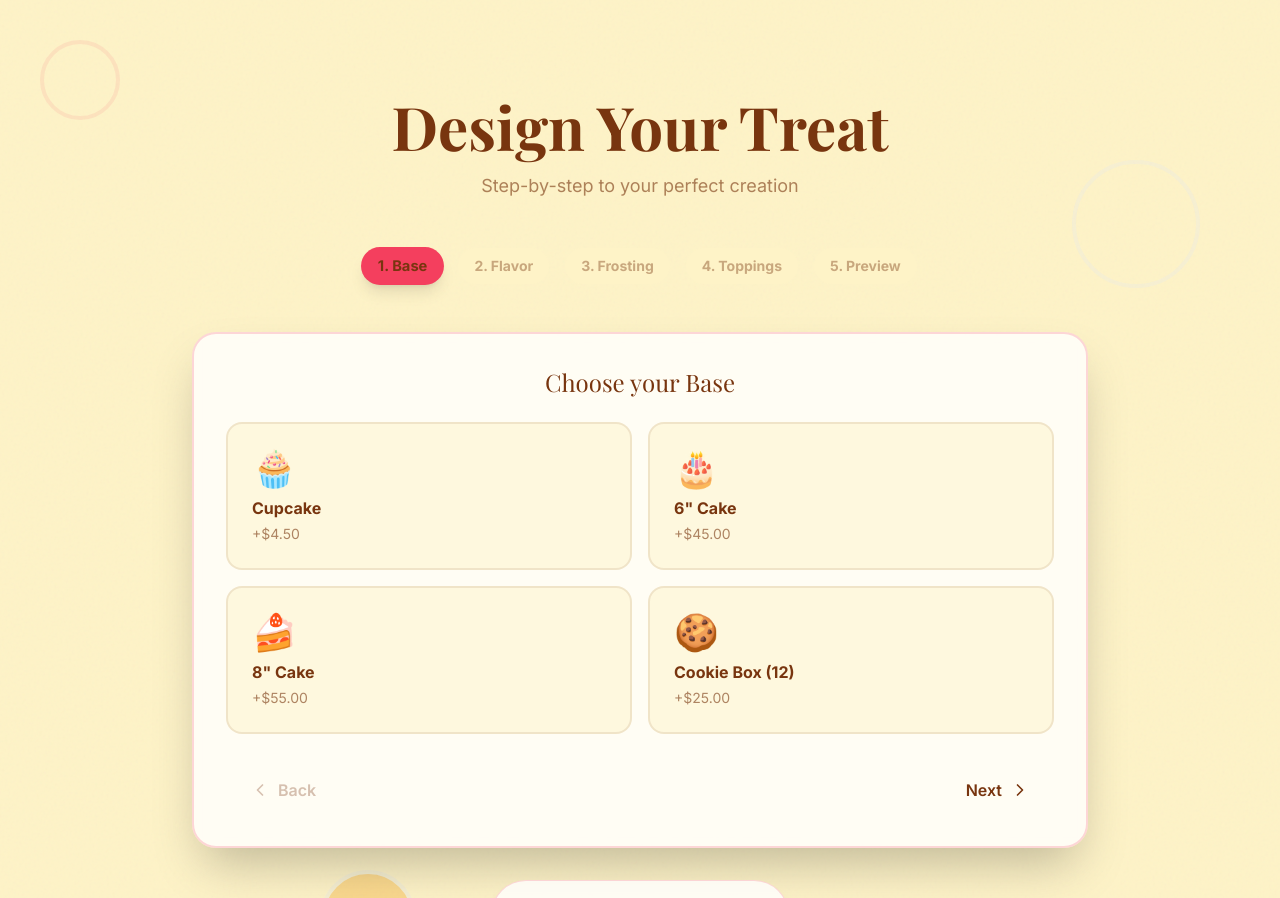
Test: Customizer › Navigation Buttons › enables back button after moving forward
Click the text "Cupcake" at (287, 508), box [252, 498, 321, 518]
Wait 400 ms
(page scrolled)
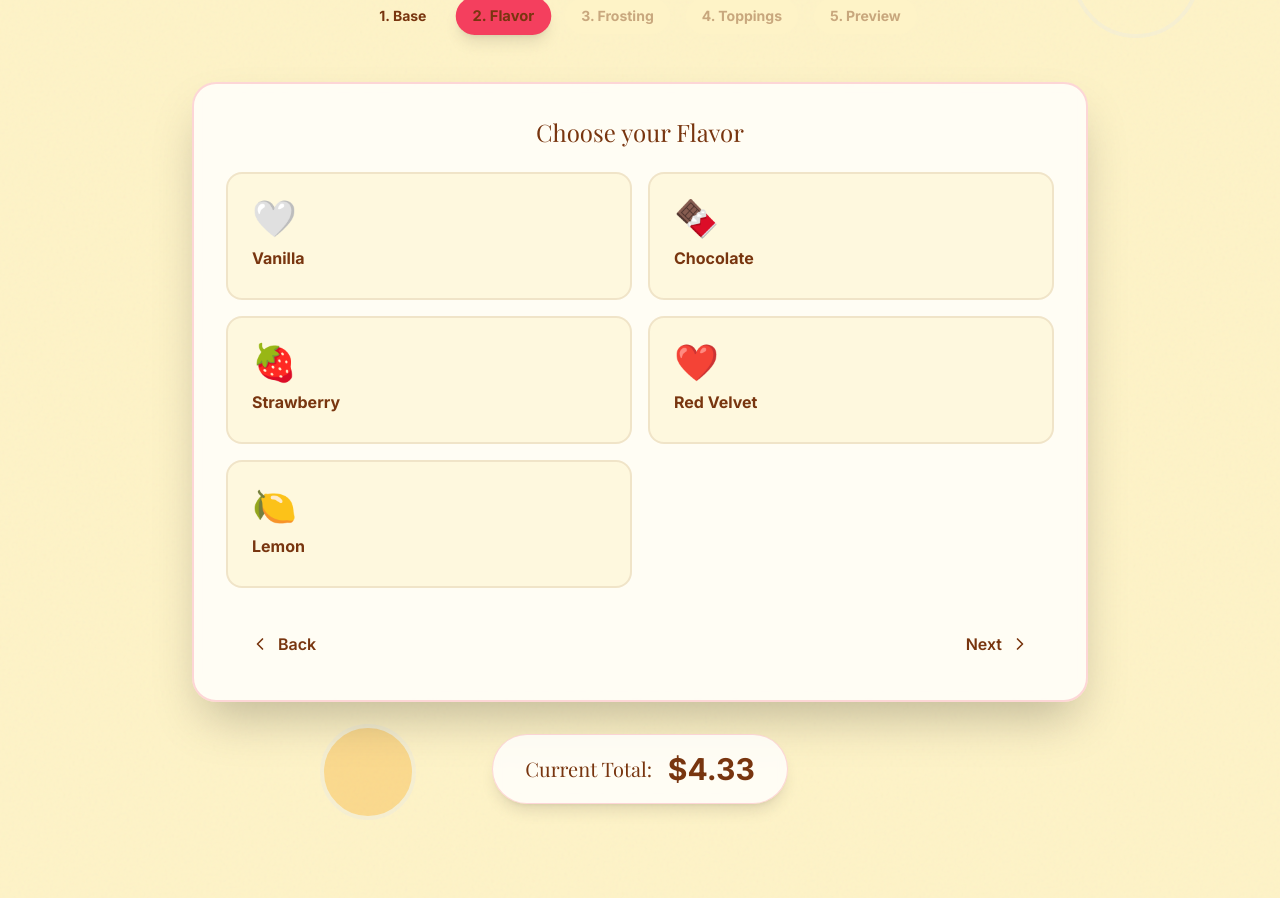
Result: the button "Back" is enabled at [226, 620, 340, 668]
